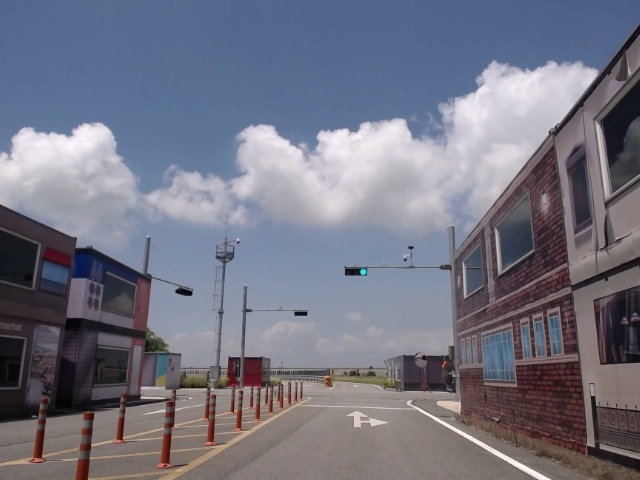green_3: (345, 269, 368, 275)
